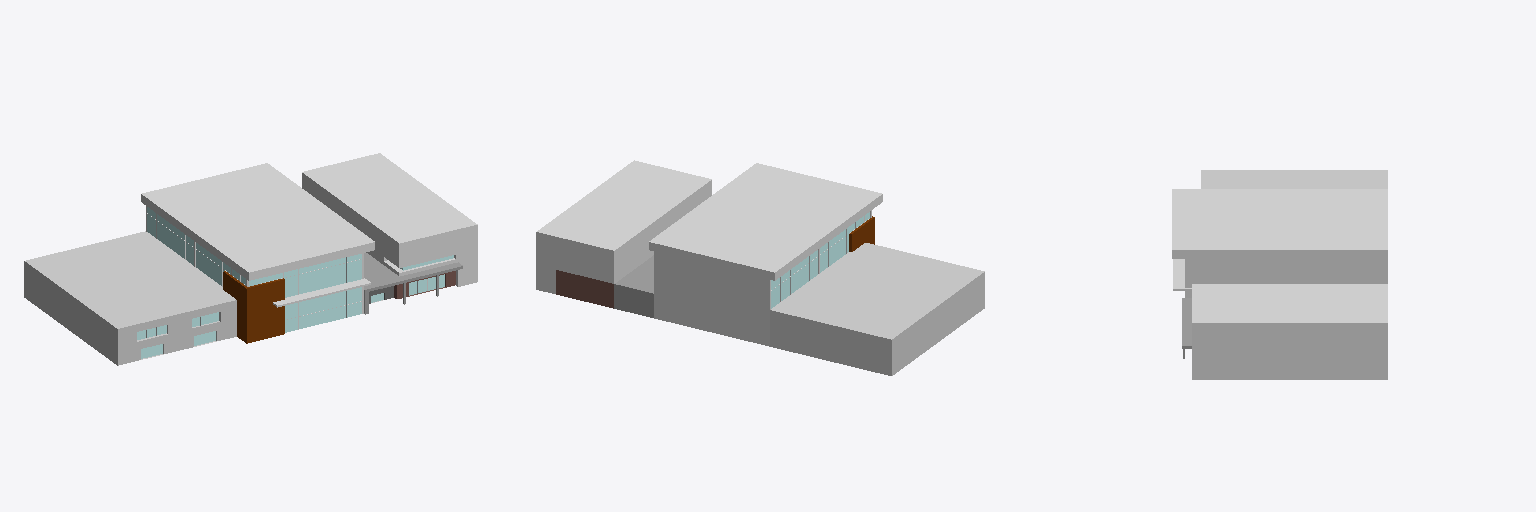
3 views of the same model, side by side, from view 1: azimuth 30°, elevation 25°; view 2: azimuth 150°, elevation 25°; view 3: azimuth 270°, elevation 25° (orthographic).
Parts seen in each view (by area): view 1: Mall_Cube.027; view 2: Mall_Cube.027; view 3: Mall_Cube.027.
Part boxes in pixels (x1,y1,x2,y2): Mall_Cube.027: (24,153,477,365); Mall_Cube.027: (536,160,984,375); Mall_Cube.027: (1172,170,1387,379).
Bounding box in the file's own units: 364 × 73.8 × 192.
Materials: 1 (1 with a texture image).